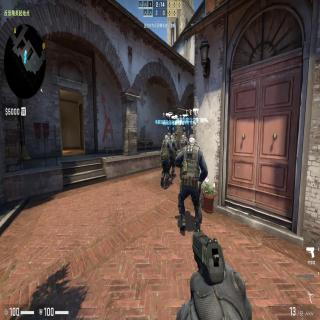CT-Body: (175, 133, 208, 231), (160, 131, 172, 190)
CT-Head: (188, 134, 196, 146), (166, 132, 171, 140)
